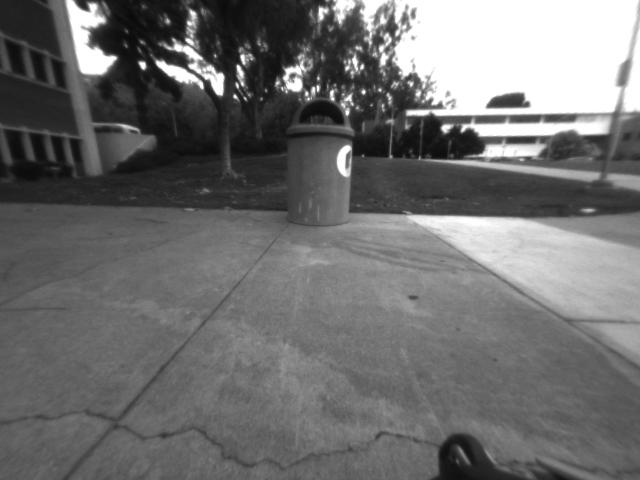trashcan: (282, 94, 362, 231)
